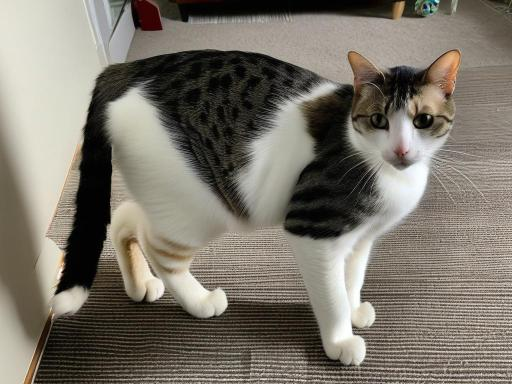cat_standing: (53, 49, 460, 365)
